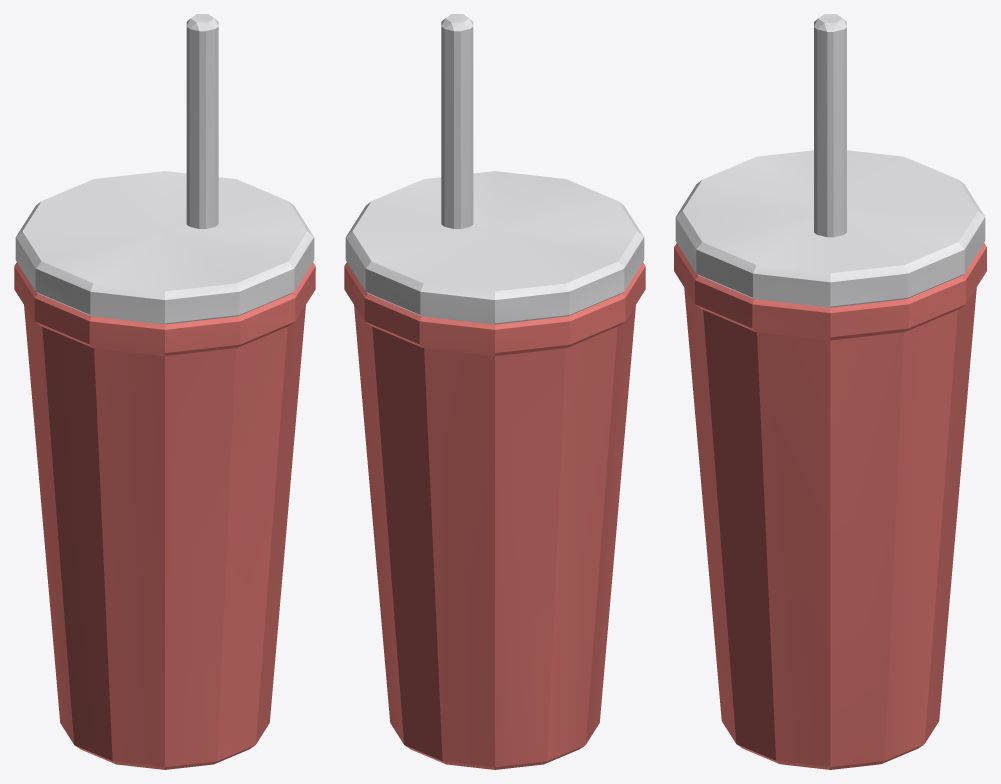
File: soda_cup_f86c94.glb
3 renders of one model, left to right at view 1: azimuth 30°, elevation 25°; view 2: azimuth 150°, elevation 25°; view 3: azimuth 270°, elevation 25°, orthographic. The views are drawn at different scales.
Visible parts, largest first — view 1: Cup_Body, Cup_Lid, Cup_Lip, Cup_Straw; view 2: Cup_Body, Cup_Lid, Cup_Lip, Cup_Straw; view 3: Cup_Body, Cup_Lid, Cup_Lip, Cup_Straw.
Boxes of the visible parts, box(x1,y1,x2,y2) form: Cup_Body: box(24, 305, 305, 769); Cup_Lid: box(15, 171, 314, 324); Cup_Lip: box(14, 262, 315, 355); Cup_Straw: box(186, 14, 218, 228); Cup_Body: box(354, 305, 635, 769); Cup_Lid: box(345, 171, 644, 324); Cup_Lip: box(344, 262, 645, 355); Cup_Straw: box(441, 14, 473, 228); Cup_Body: box(684, 287, 976, 769); Cup_Lid: box(675, 150, 985, 307); Cup_Lip: box(674, 243, 986, 340); Cup_Straw: box(814, 14, 846, 237).
Bounding box in the file's own units: 0.0938 × 0.2409 × 0.0938.
